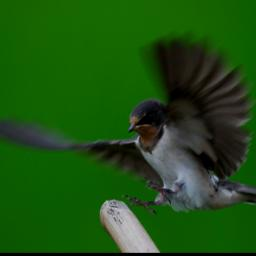Swallow: (0, 32, 256, 215)
